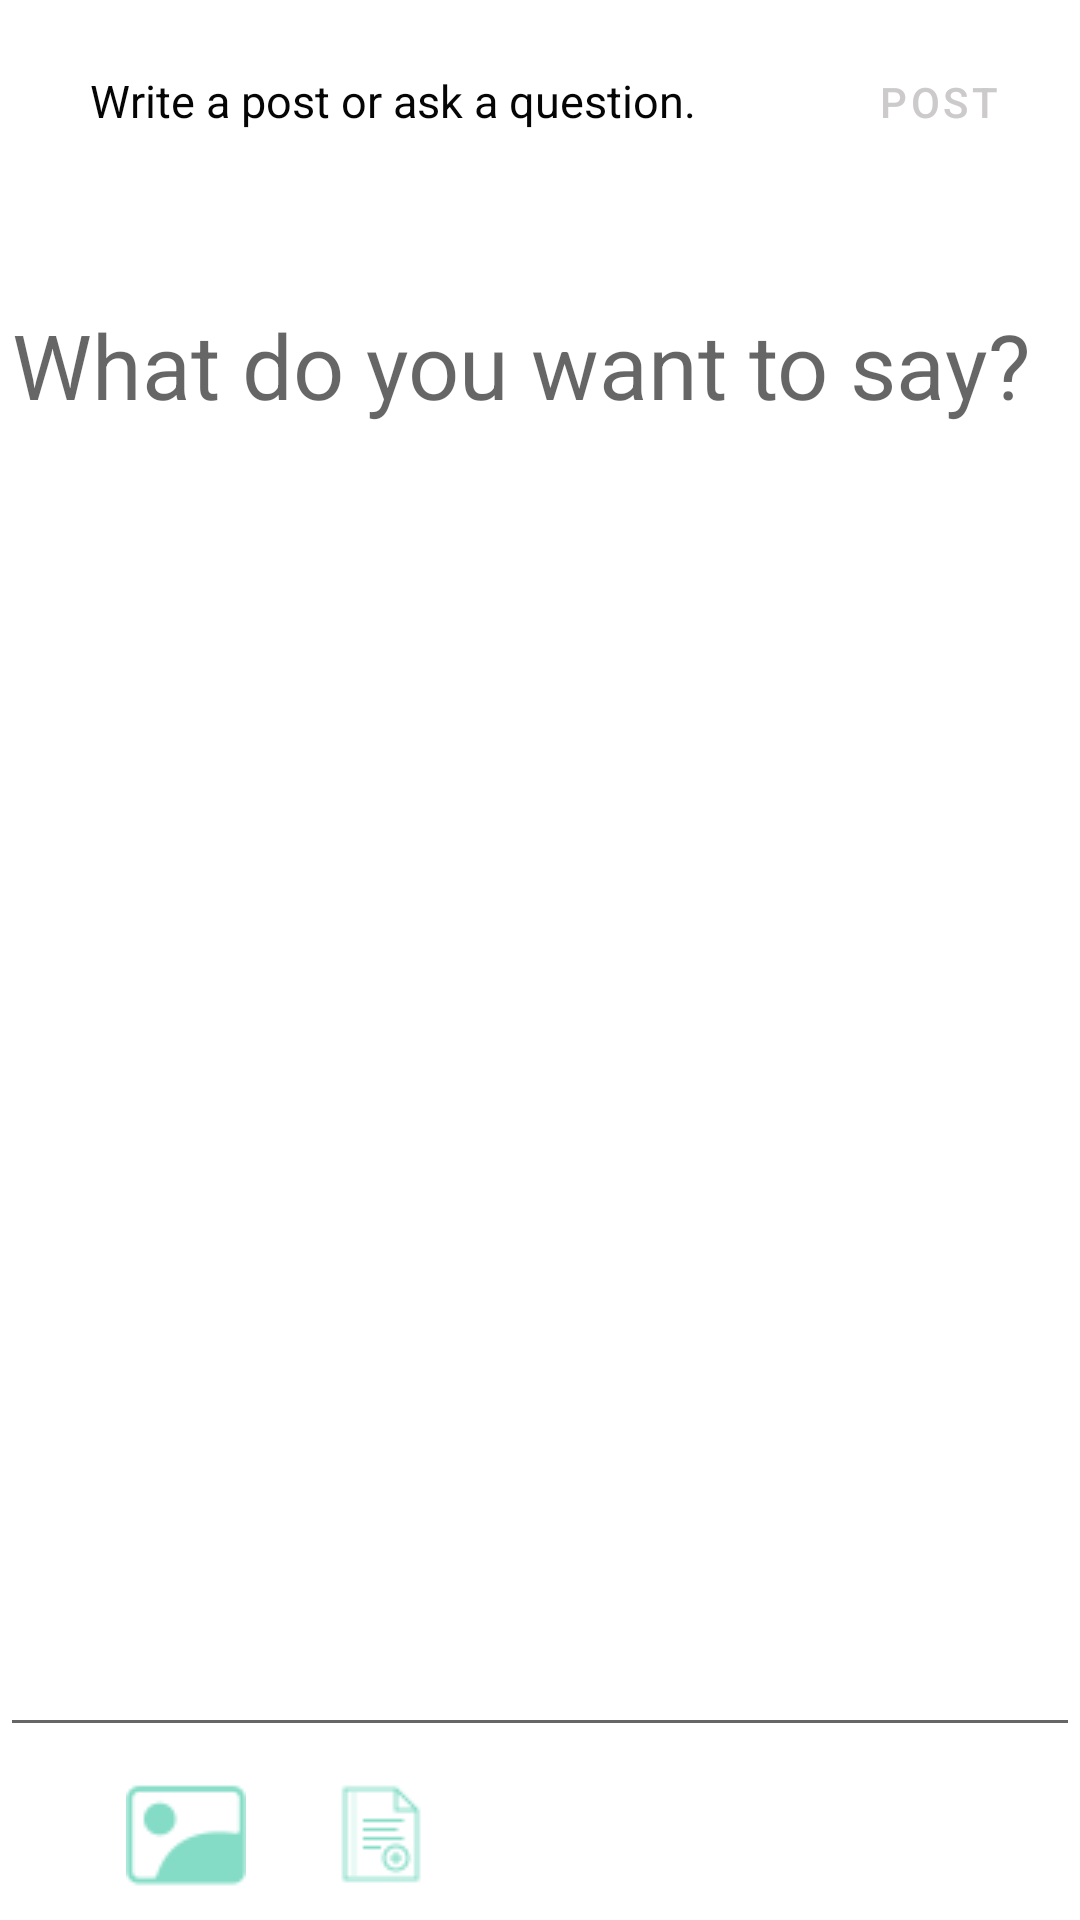

Where icons sit on this 1080 x 1920 app screen, as (x1, y1, x2, y2):
doc: (342, 1786, 420, 1882)
